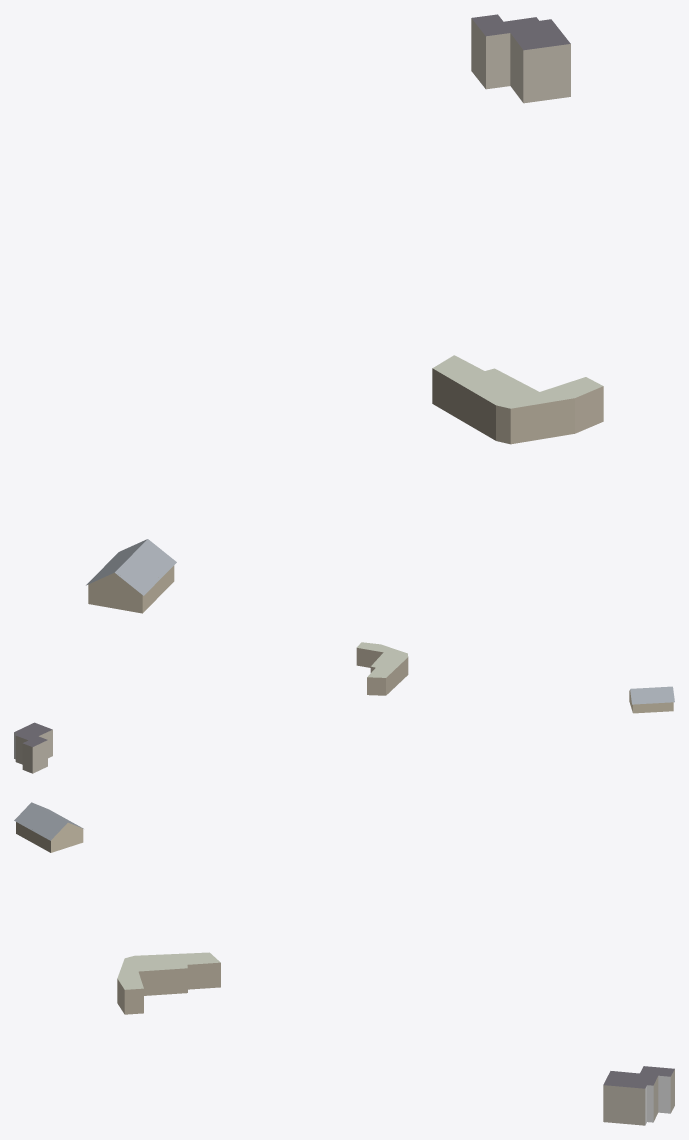
The picture shows the model from 3 angles, top to bottom: view 1: azimuth 30°, elevation 25°; view 2: azimuth 150°, elevation 25°; view 3: azimuth 270°, elevation 25°; orthographic projection. The views are drawn at different scales.
Visible parts, largest first — view 1: tuile; view 2: tuile; view 3: tuile.
Boxes of the visible parts, bbox=[...] form: tuile: bbox=[86, 14, 603, 613]; tuile: bbox=[14, 642, 674, 773]; tuile: bbox=[14, 802, 674, 1125].
Bounding box in the file's own units: 167 × 9.64 × 154.
